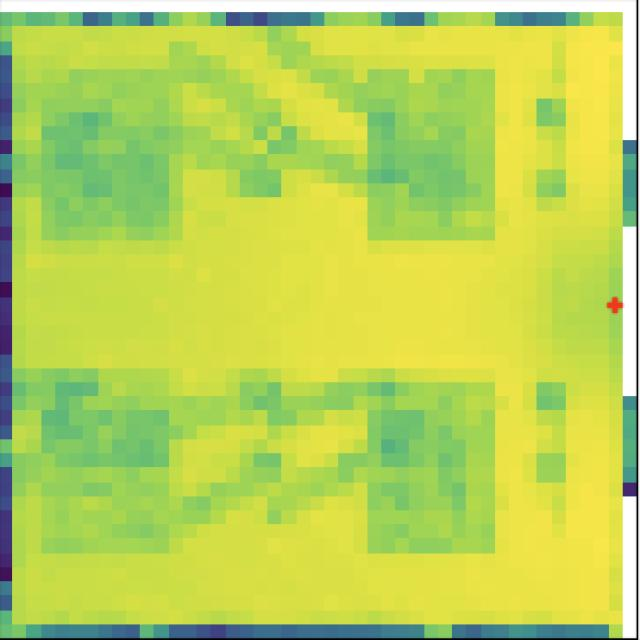Concrete: (39, 64, 184, 244)
Glass: (363, 369, 499, 557)
Metal: (39, 370, 178, 554)
Wood: (364, 66, 500, 245)
